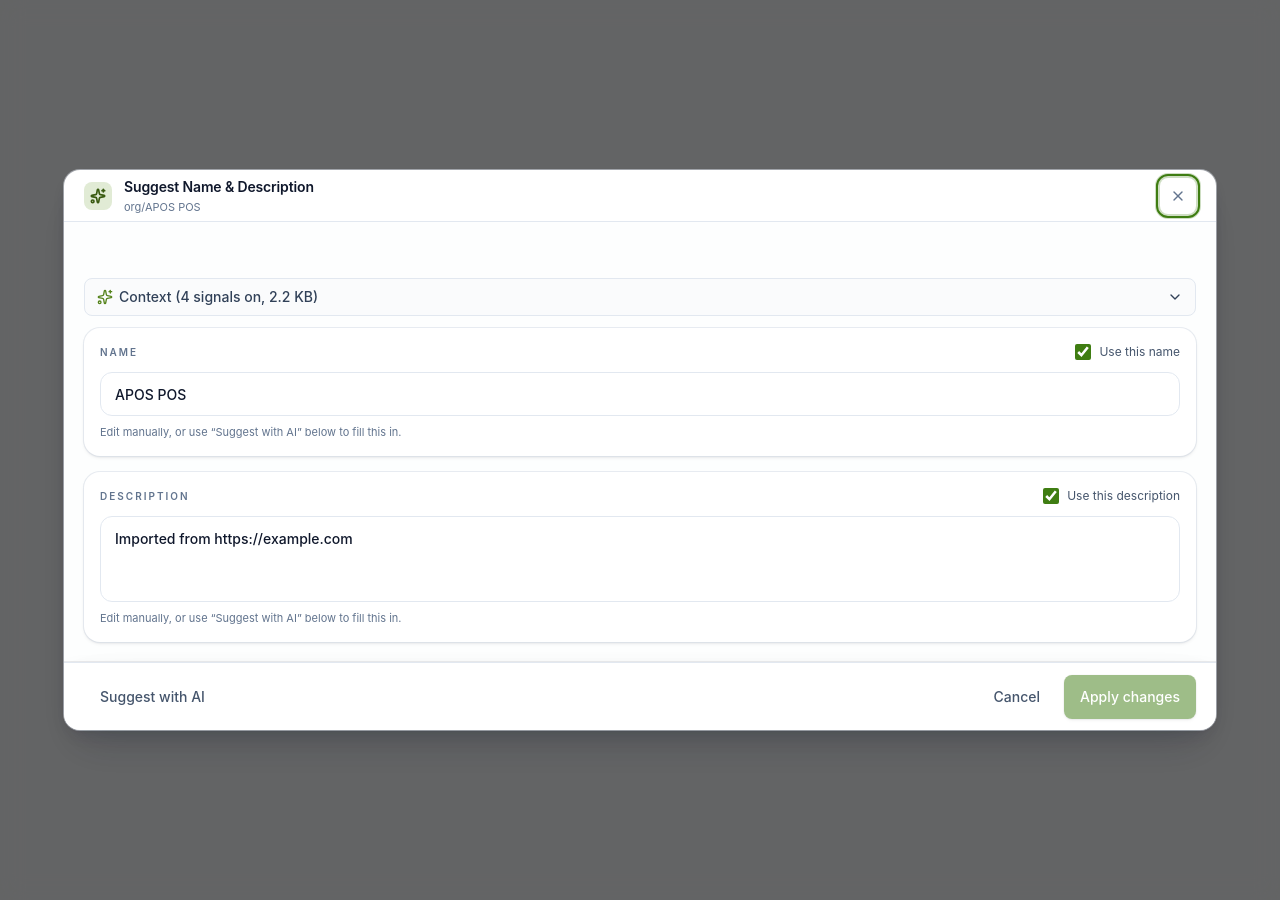
Test case: SuggestNameDescriptionModal — graceful degradation › asks to confirm when regenerating with unsaved edits
Click the button "Suggest with AI": (152, 696) [84,674,221,718]
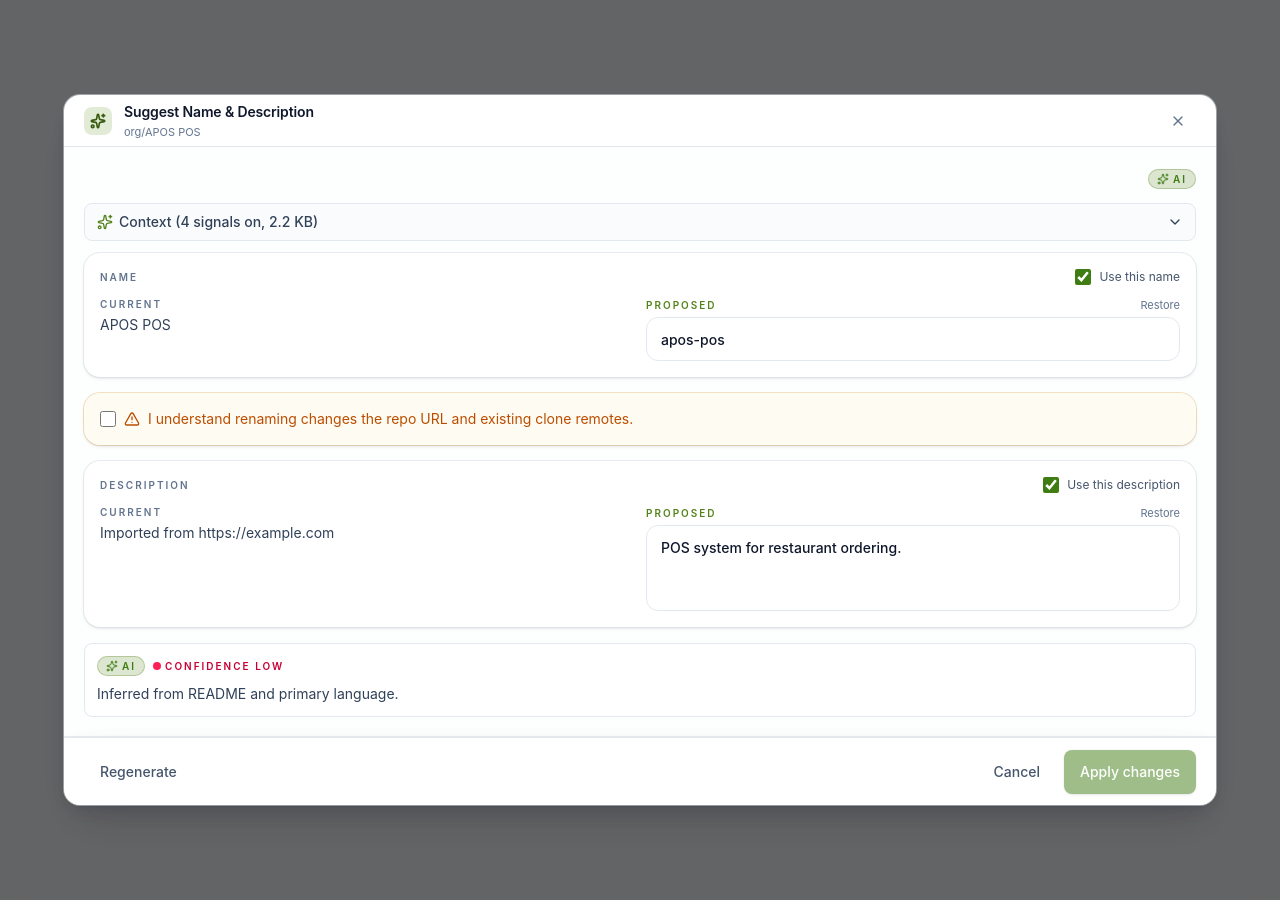
Clear the field showing "apos-pos": (913, 339) [646,317,1180,361]
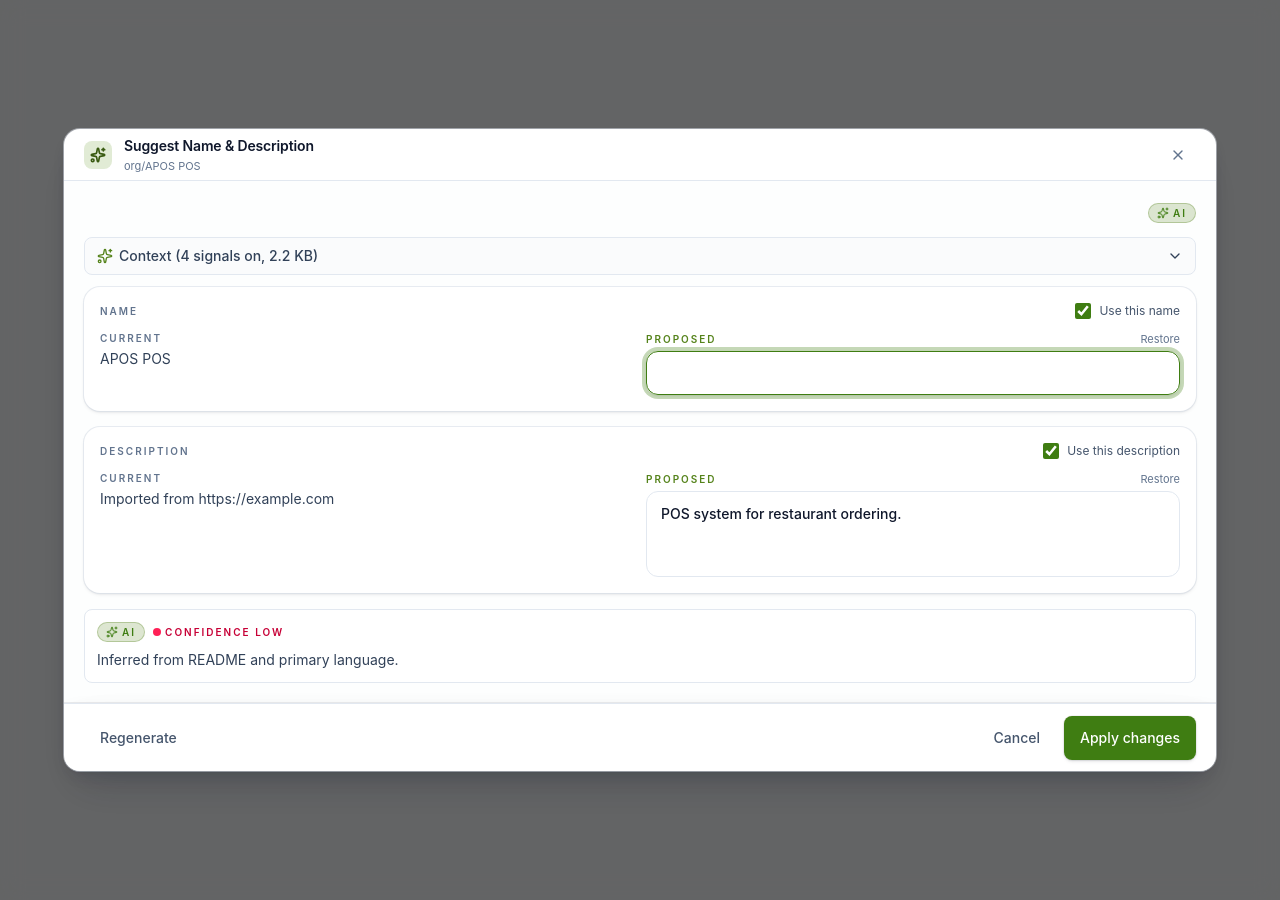
In the field showing "apos-pos": (913, 373) [646,351,1180,395], type "apos-edited"
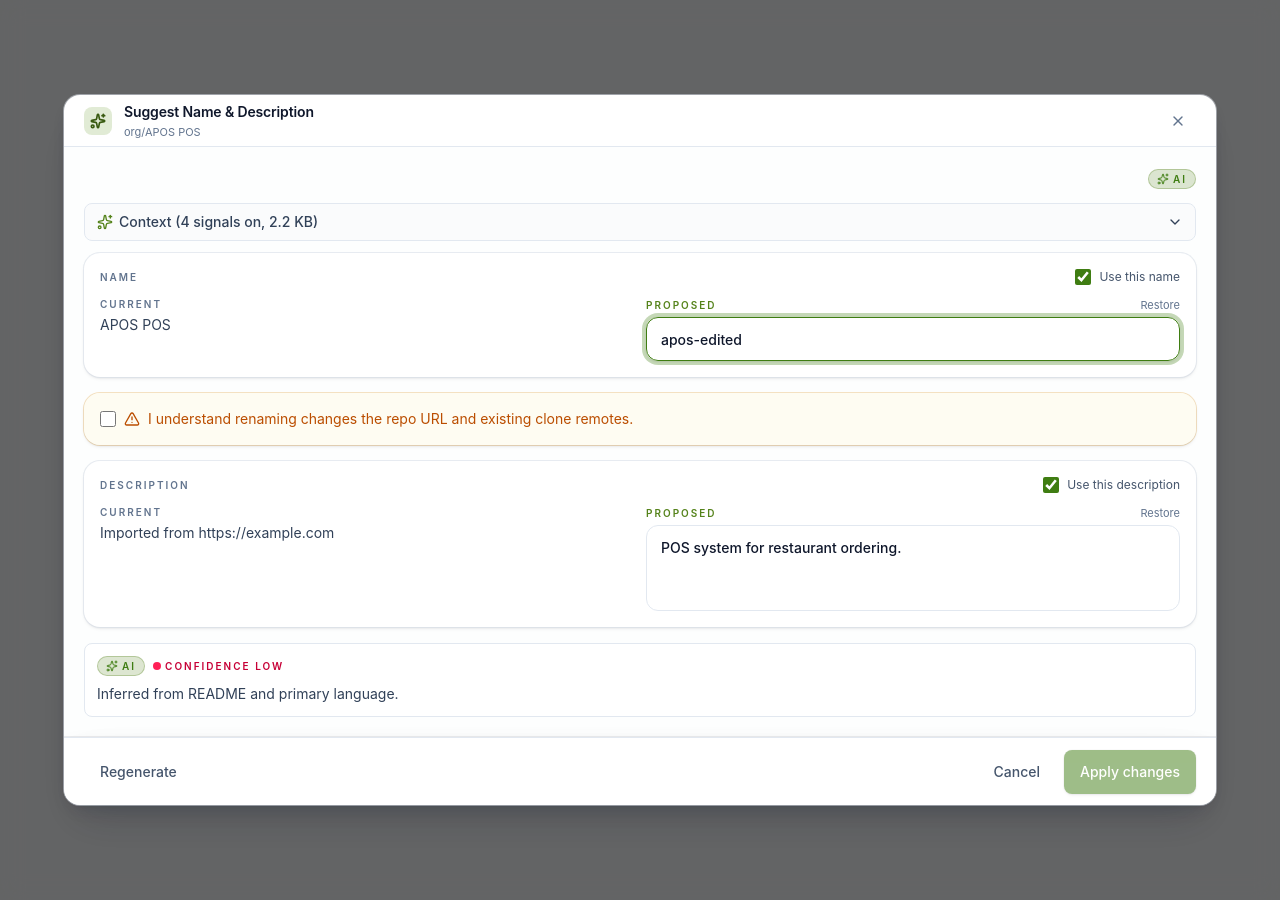
// First click — arms confirm state, no second fetch.
Click the button "Regenerate": (138, 772) [84,750,193,794]
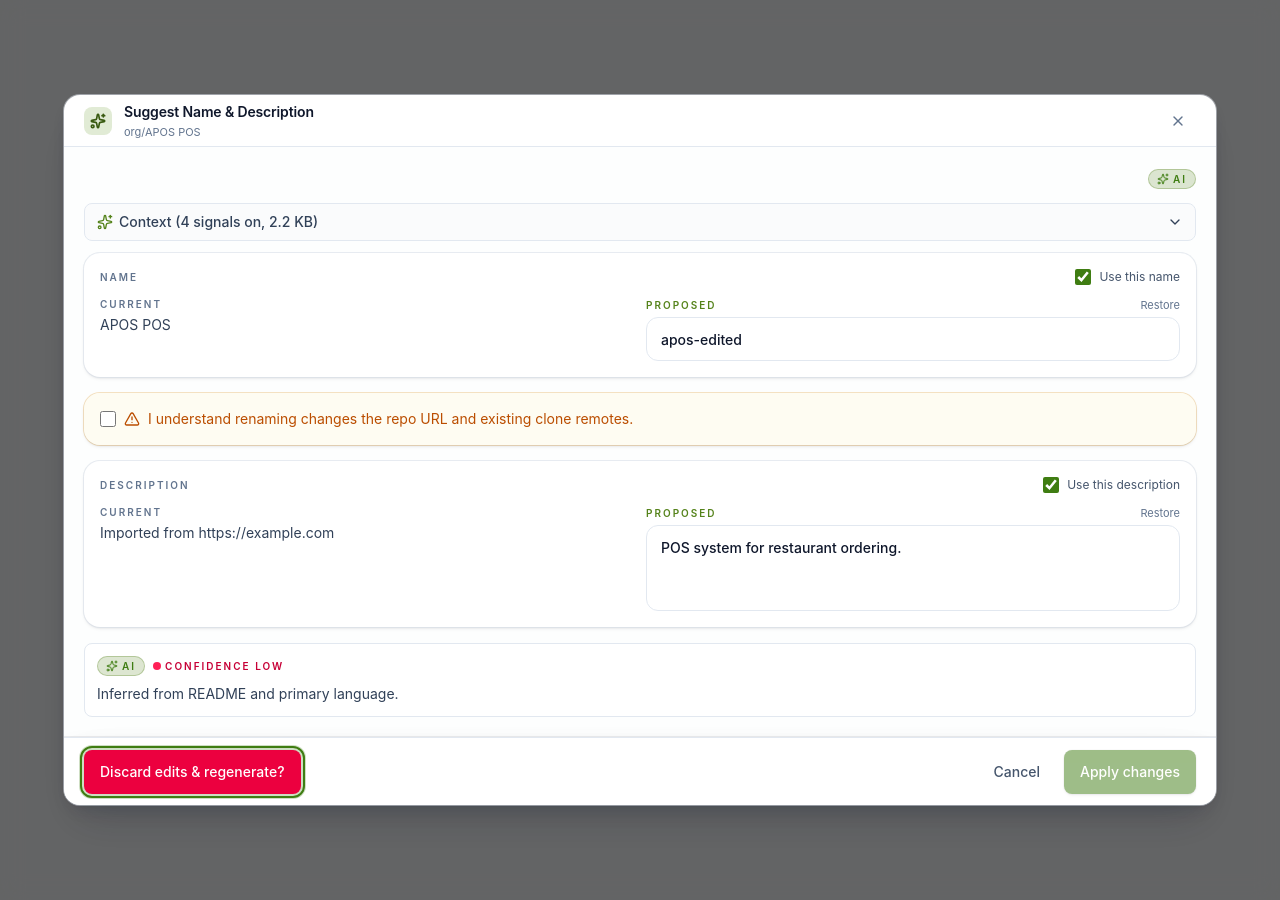
expect the button "Discard edits & regenerate?" is shown: met
// Second click — proceeds with the fetch.
Click the button "Discard edits & regenerate?": (192, 772) [84,750,300,794]
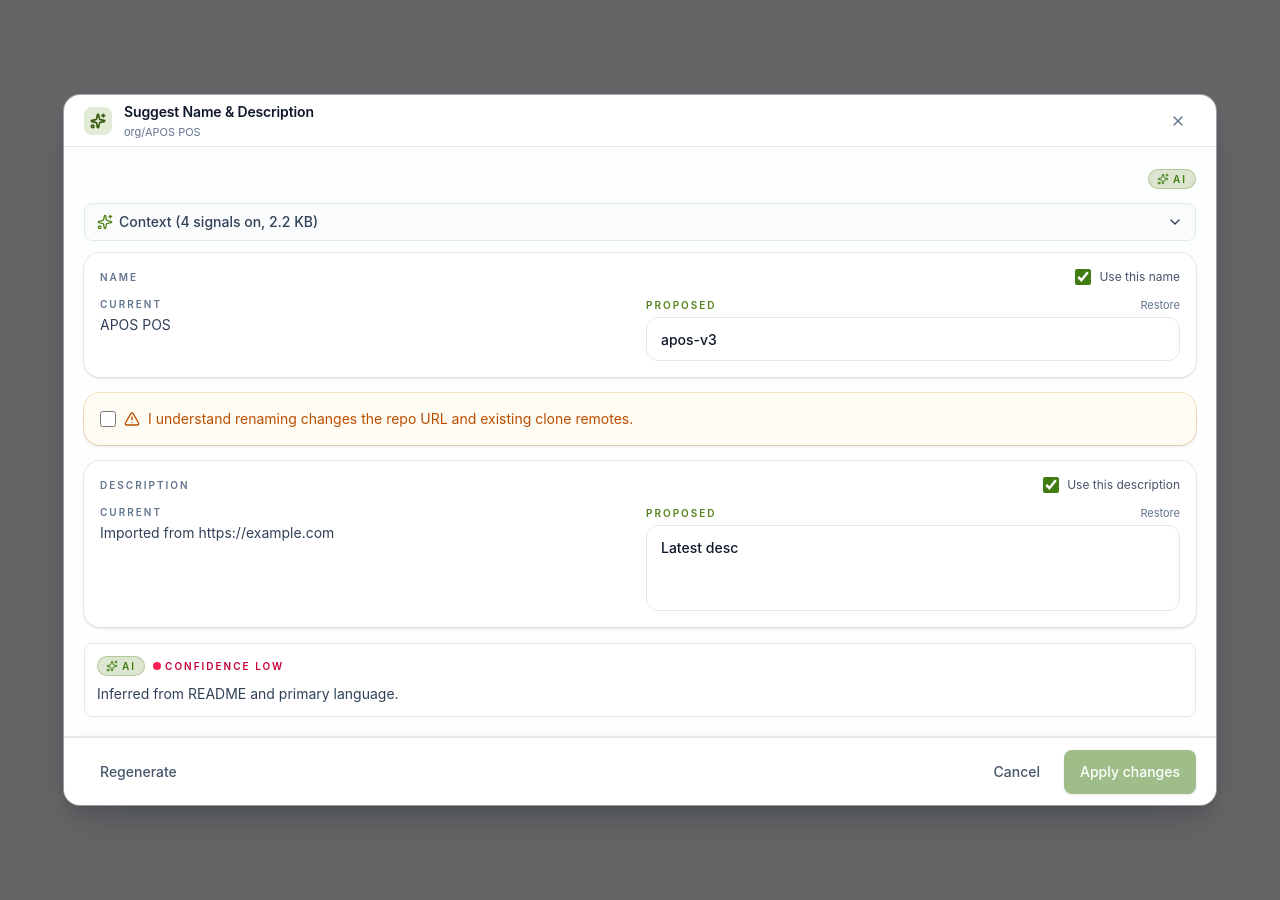
expect the field showing "apos-v3" is shown: met, box [646,317,1180,361]
